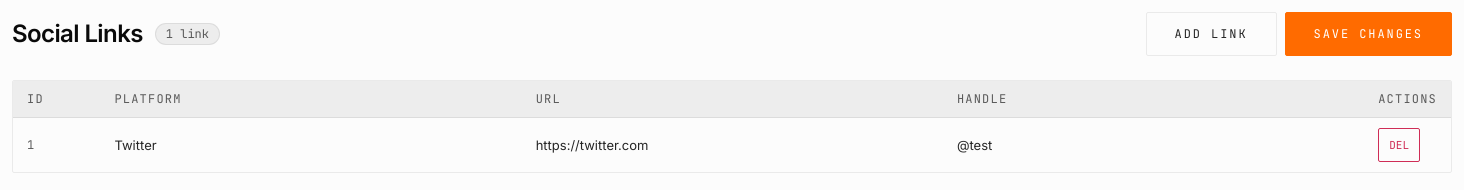
Scenario: SocialLinksForm › allows removing a link row
Step 1. Click the button "DEL" → [1399, 145], box [1378,128,1420,162]
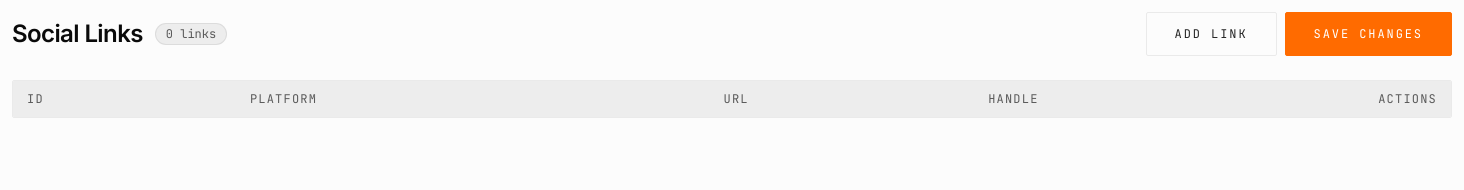
Now the number of rows is 1, box [13,81,1451,117]
